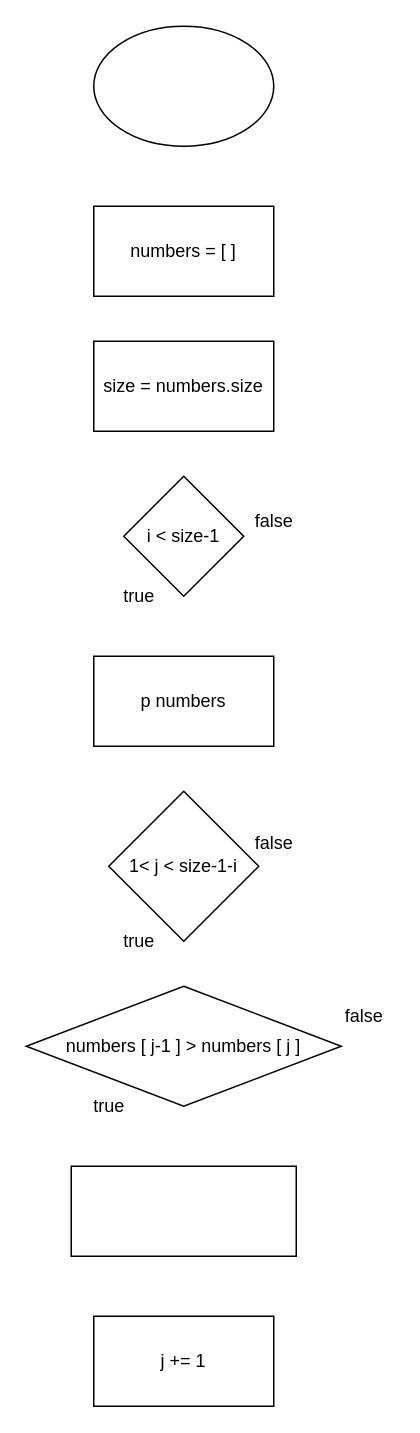
The diagram is 420 pixels wide and 1433 high, and some of its shapes have lost their labels. Each missing label, with the centre of its shape:
permuter numbers [ j-1 ] et numbers [ j ]: (183,1210)
START: (183,85)
